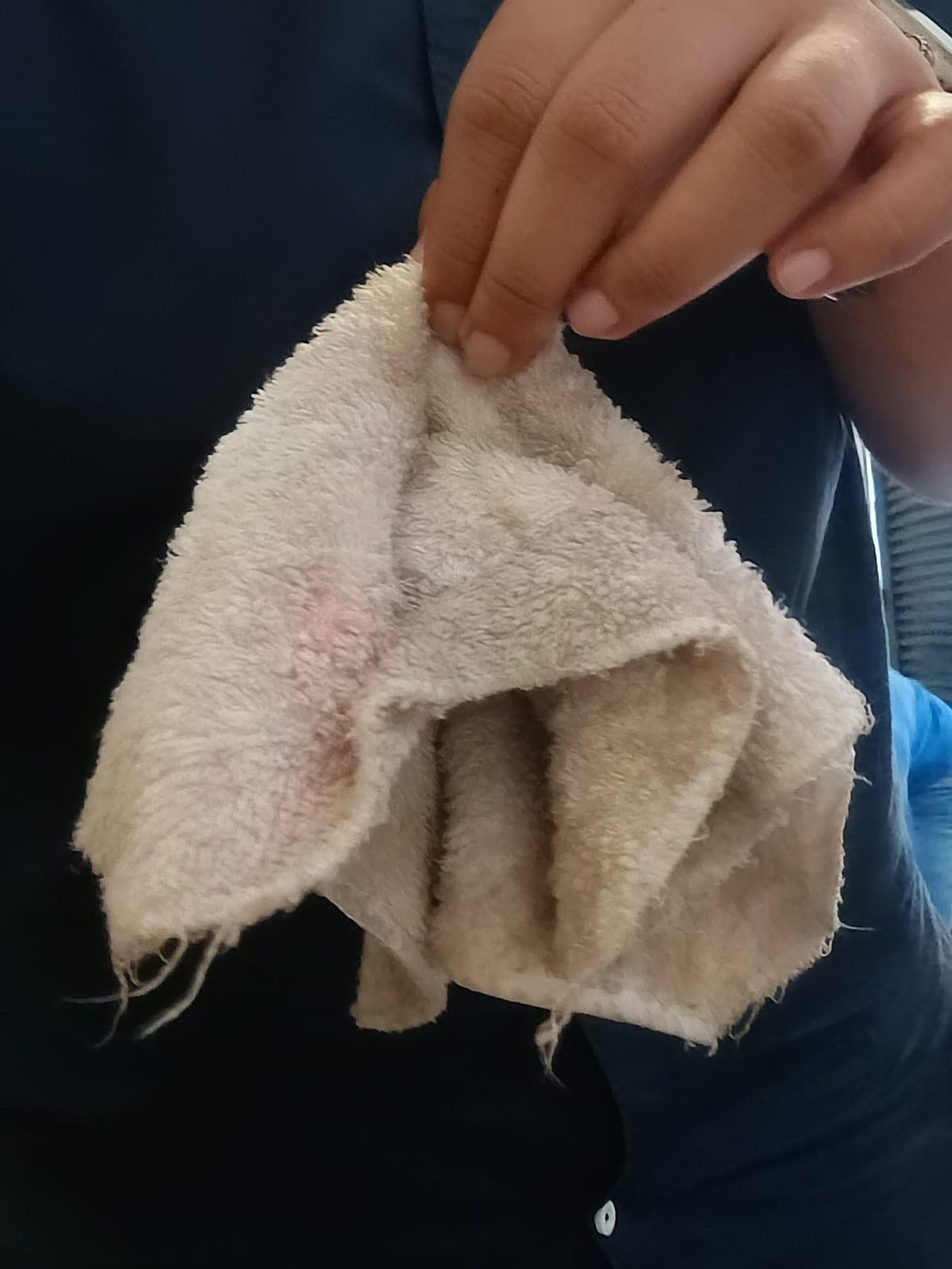Ordinario: (64, 257, 873, 1050)
